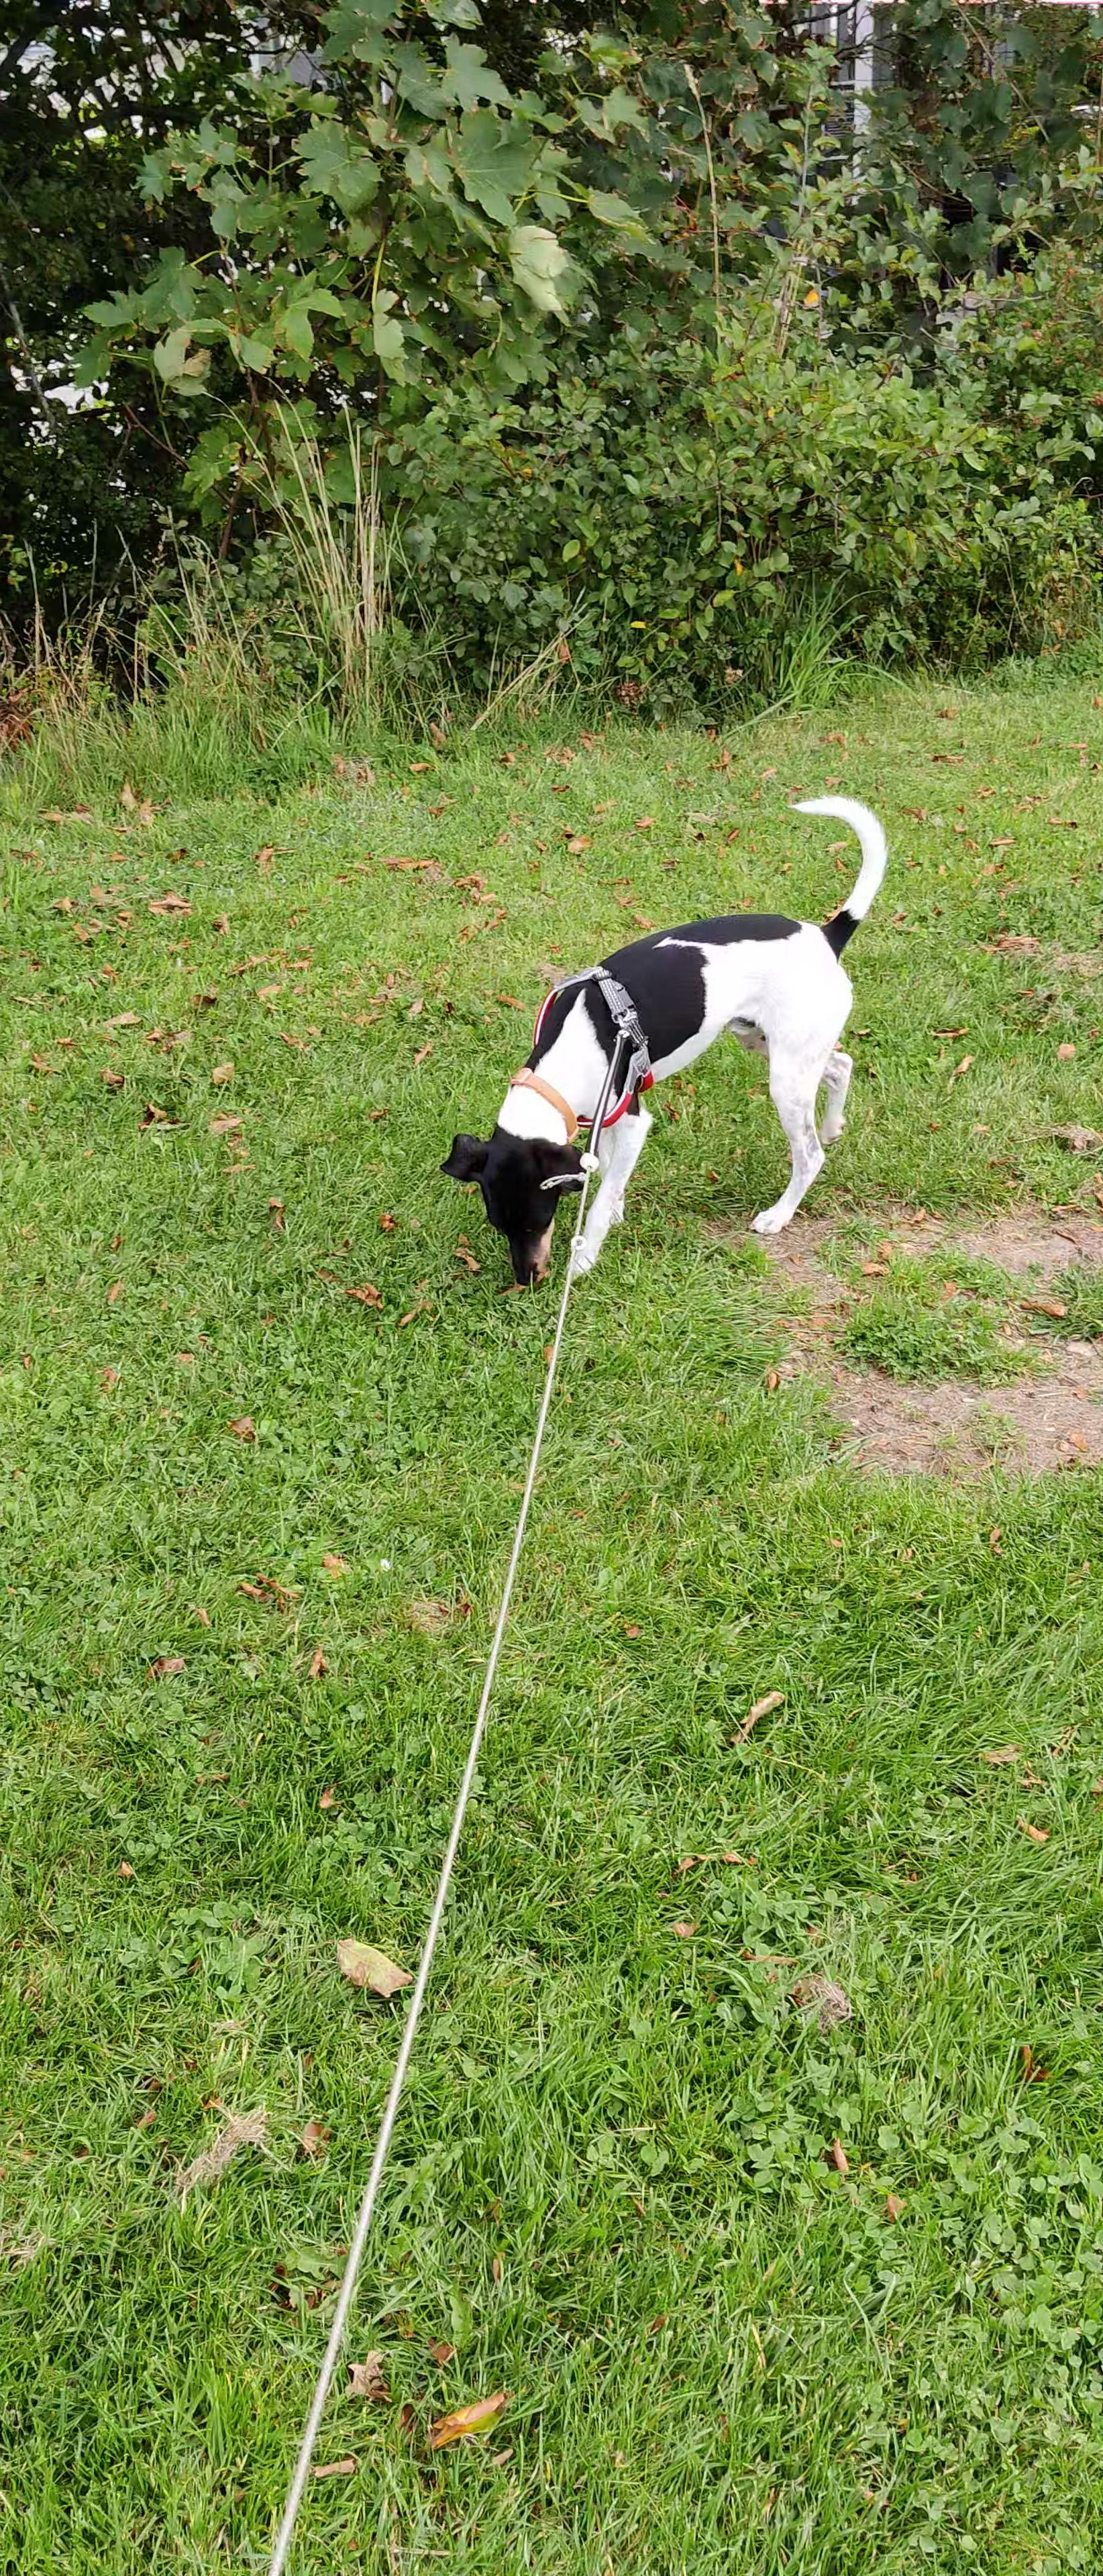Dog: (439, 792, 899, 1299)
